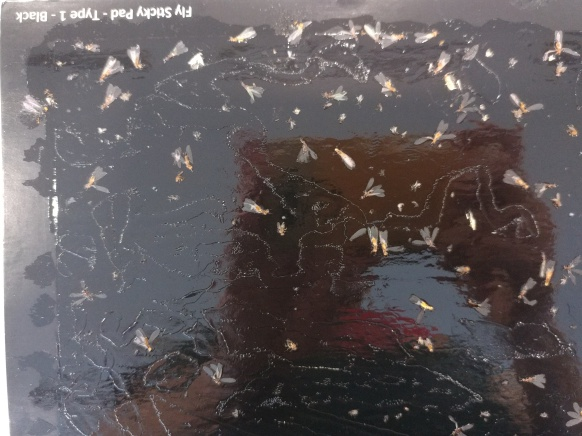flying termite: (540, 24, 582, 66), (506, 90, 545, 126), (95, 83, 133, 112), (78, 164, 111, 197), (126, 322, 160, 353), (94, 53, 125, 87), (158, 37, 190, 65), (284, 18, 314, 47), (202, 359, 233, 387), (330, 143, 357, 175), (123, 42, 148, 75), (500, 165, 529, 193), (379, 229, 404, 258), (238, 78, 263, 106), (227, 25, 258, 47), (426, 49, 451, 75), (413, 26, 439, 45), (368, 224, 378, 255)
